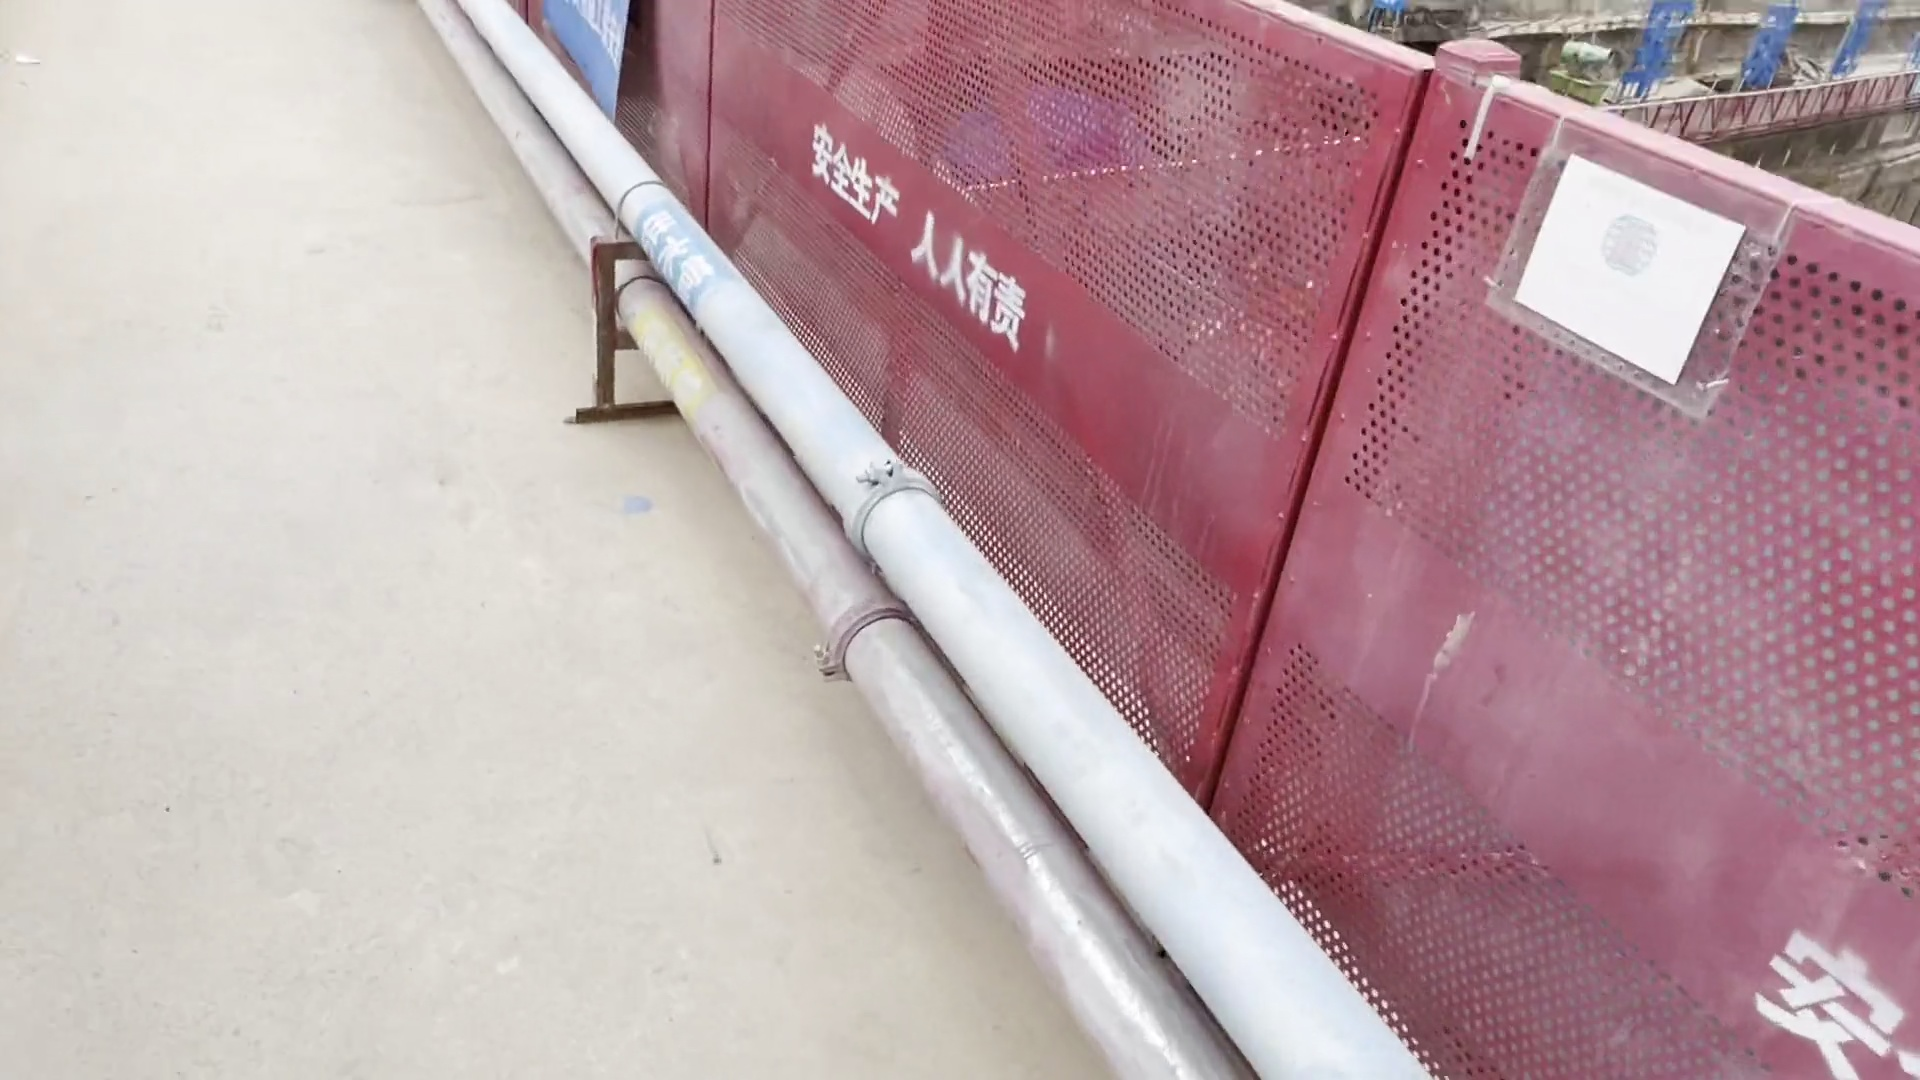fence: (1083, 12, 1908, 1051)
